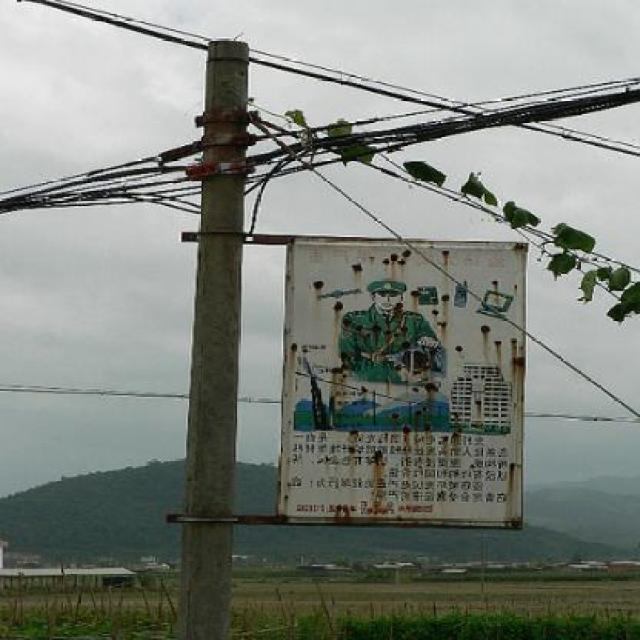pole: (99, 37, 293, 632)
